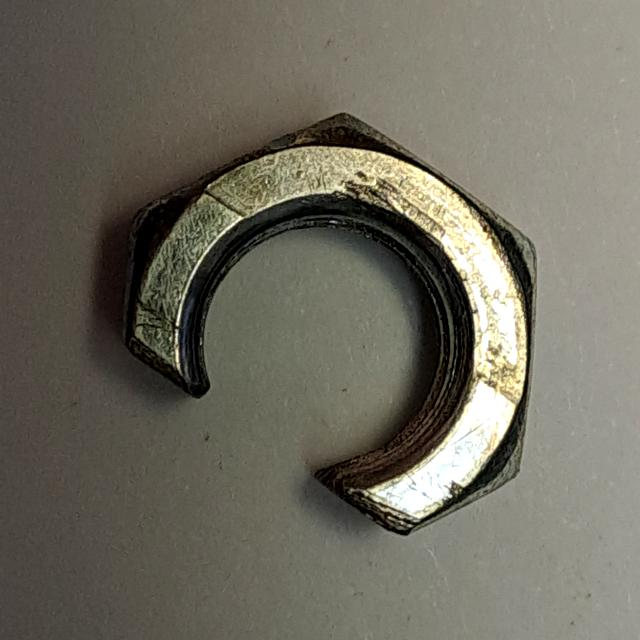Fracture: (115, 100, 550, 547)
